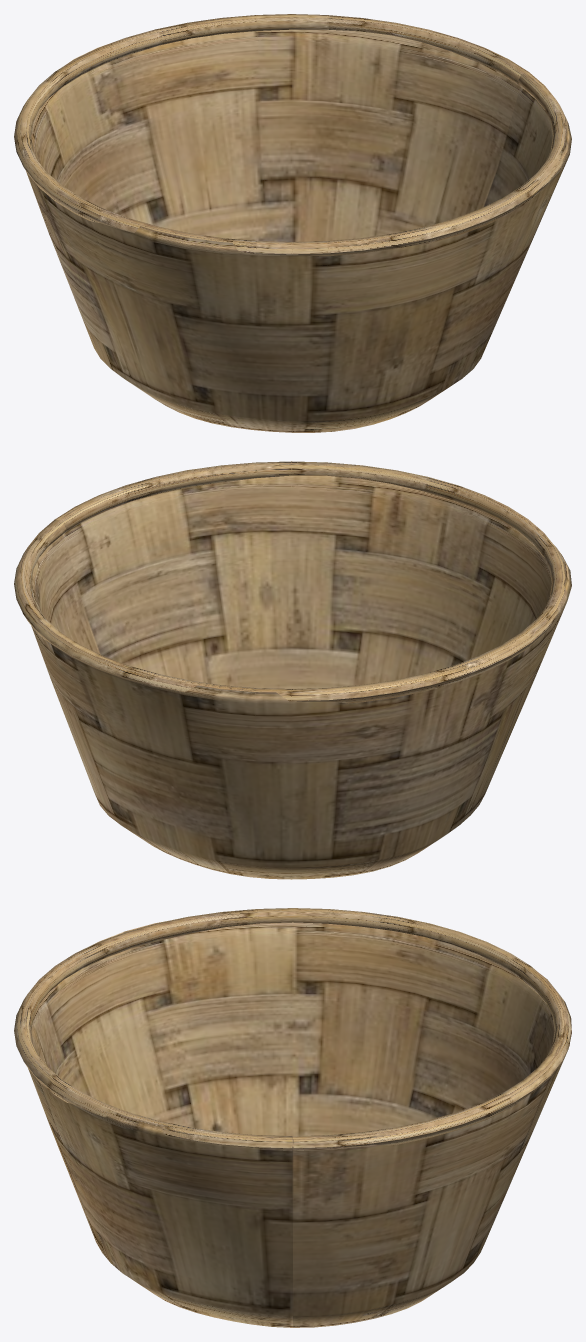
File: prop_dala.glb
The picture shows the model from 3 angles, top to bottom: view 1: azimuth 30°, elevation 25°; view 2: azimuth 150°, elevation 25°; view 3: azimuth 270°, elevation 25°; orthographic projection.
Parts seen in each view (by area): view 1: prop_dala; view 2: prop_dala; view 3: prop_dala.
Part boxes in pixels (x1=…): prop_dala: x1=14, y1=14, x2=571, y2=432; prop_dala: x1=14, y1=461, x2=571, y2=879; prop_dala: x1=14, y1=908, x2=571, y2=1327.
Size of the model in its own units: 0.45 by 0.21 by 0.45.
1 material, 1 textured.
